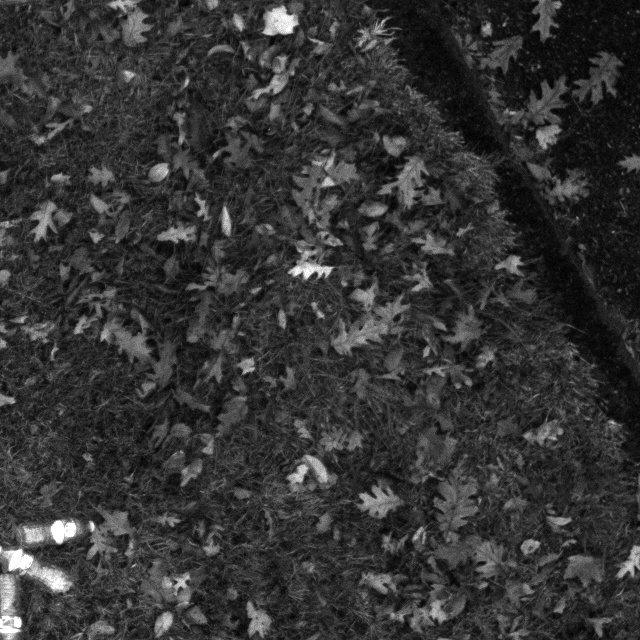bottle: (0, 537, 79, 596), (12, 508, 103, 556)
